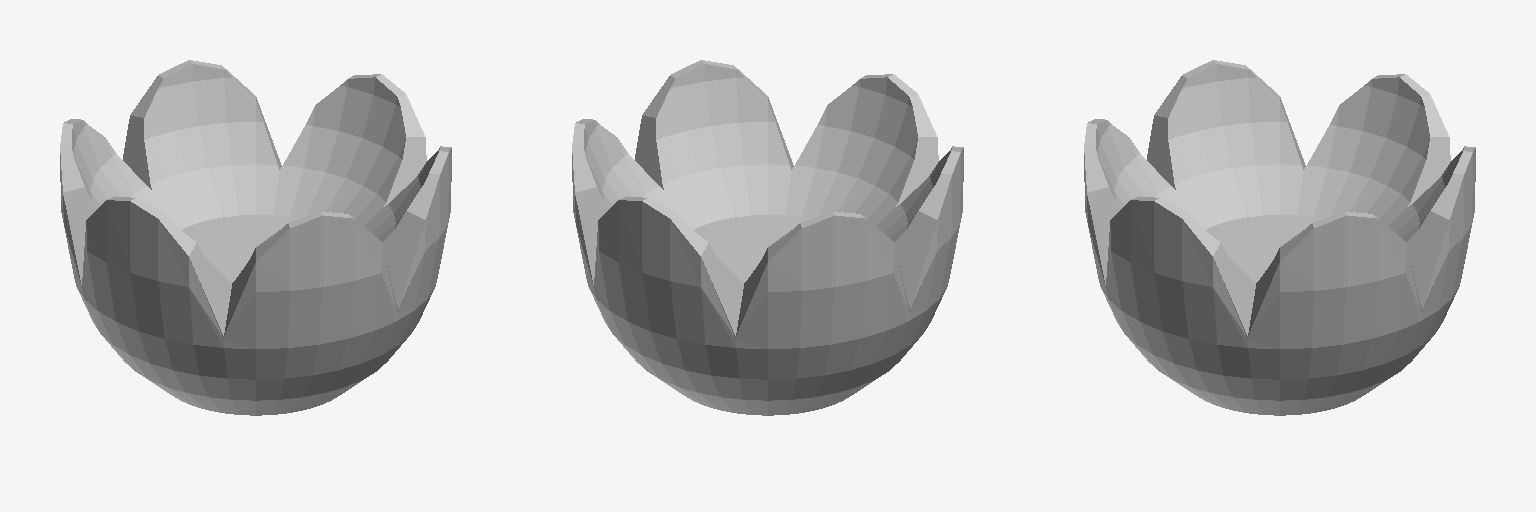
Rendered from hex-wave.obj.
3 views of the same model, side by side, from view 1: azimuth 30°, elevation 25°; view 2: azimuth 150°, elevation 25°; view 3: azimuth 270°, elevation 25° (orthographic).
Parts seen in each view (by area): view 1: Cylinder; view 2: Cylinder; view 3: Cylinder.
Boxes of the visible parts, box(x1,y1,x2,y2) form: Cylinder: box(60, 60, 451, 415); Cylinder: box(572, 60, 963, 415); Cylinder: box(1084, 60, 1475, 415).
Bounding box in the file's own units: 1.5 × 1 × 1.5.